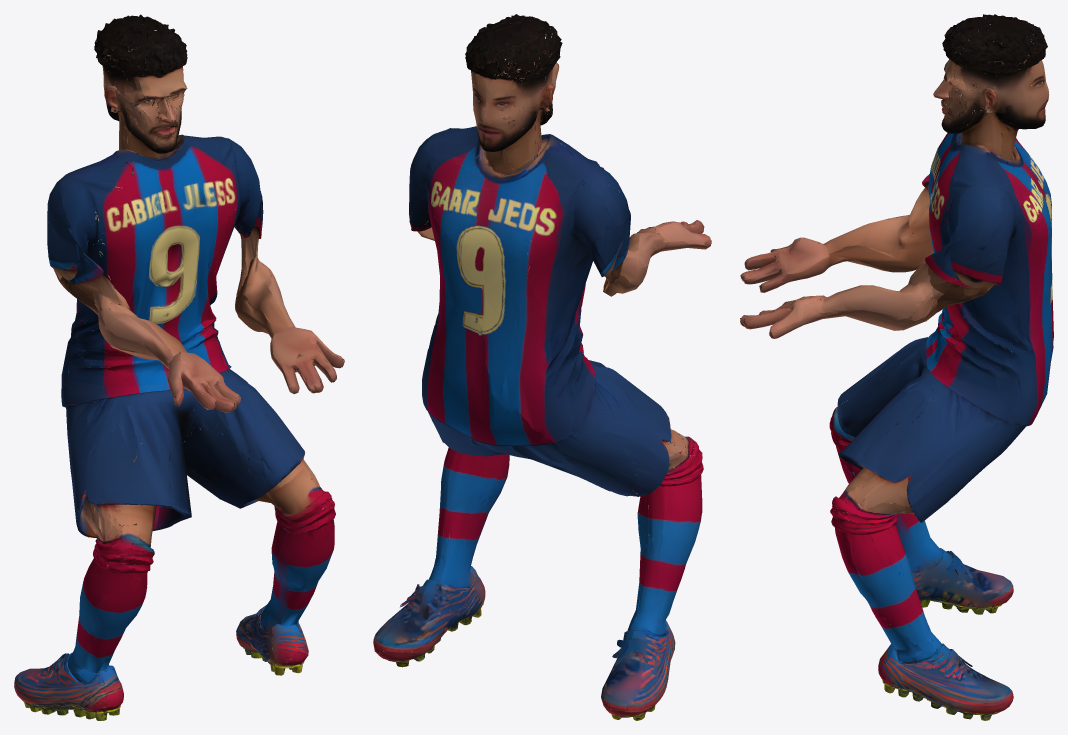
Rendered from athlete_12.glb.
3 renders of one model, left to right at view 1: azimuth 30°, elevation 25°; view 2: azimuth 150°, elevation 25°; view 3: azimuth 270°, elevation 25°, orthographic. The views are drawn at different scales.
Parts seen in each view (by area): view 1: Gabriel_Jesus_1517394300941410304; view 2: Gabriel_Jesus_1517394300941410304; view 3: Gabriel_Jesus_1517394300941410304.
Boxes of the visible parts, left/top/right/bottom form: Gabriel_Jesus_1517394300941410304: left=14, top=14, right=344, bottom=720; Gabriel_Jesus_1517394300941410304: left=373, top=14, right=711, bottom=720; Gabriel_Jesus_1517394300941410304: left=740, top=14, right=1053, bottom=720.
Bounding box in the file's own units: 0.6332 × 1.47 × 0.6544.
1 material, 1 textured.
